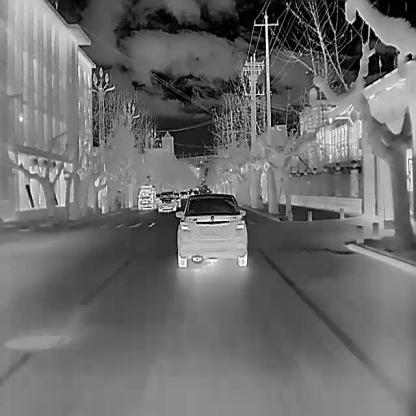car: (177, 192, 247, 266), (158, 190, 175, 211)
truck: (138, 184, 154, 208)
